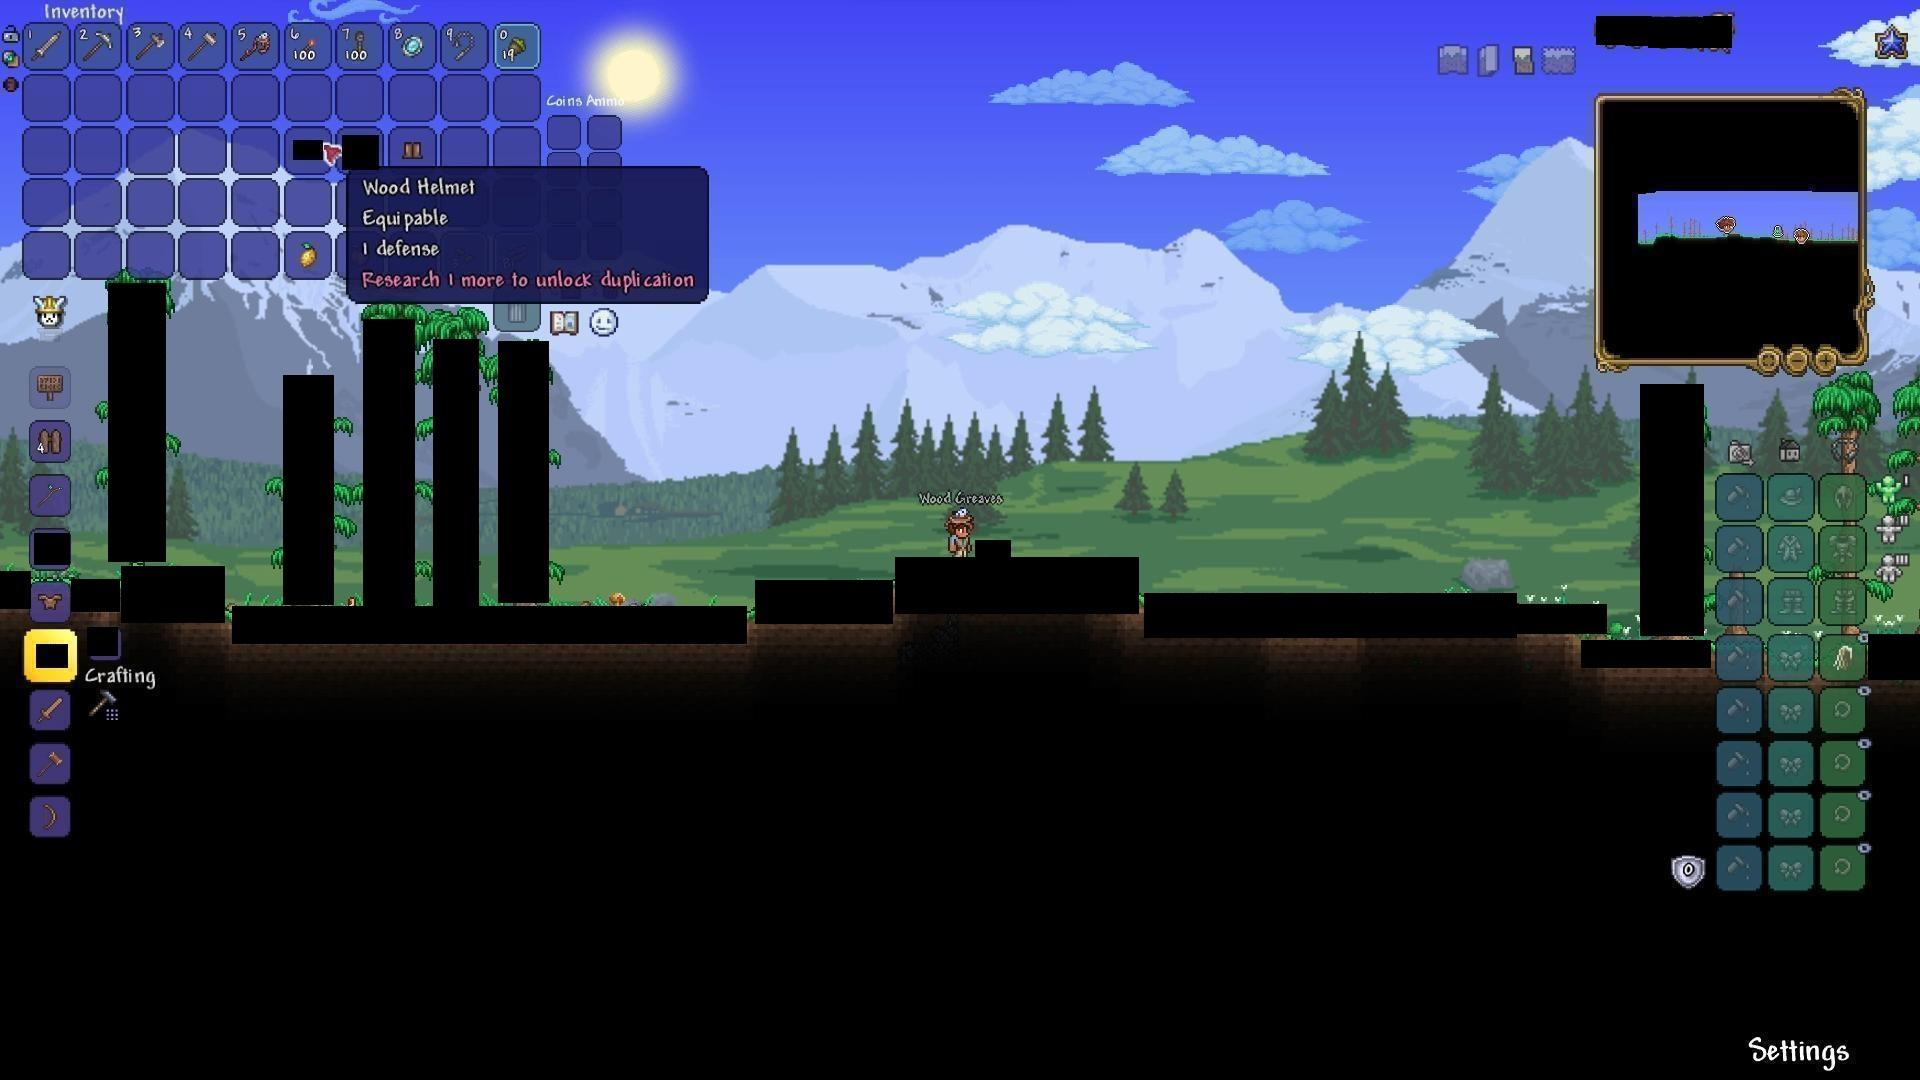breastplate: (30, 583, 66, 617)
legs: (397, 138, 429, 162)
